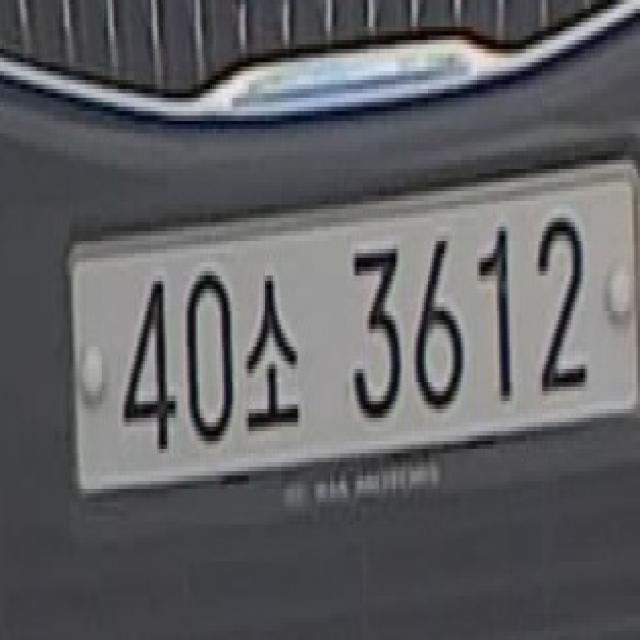0: (183, 262, 234, 444)
1: (473, 222, 518, 400)
2: (536, 209, 589, 400)
3: (348, 240, 404, 427)
4: (119, 271, 178, 458)
6: (412, 227, 466, 409)
license_plate: (63, 151, 640, 507)
so: (242, 262, 300, 427)
